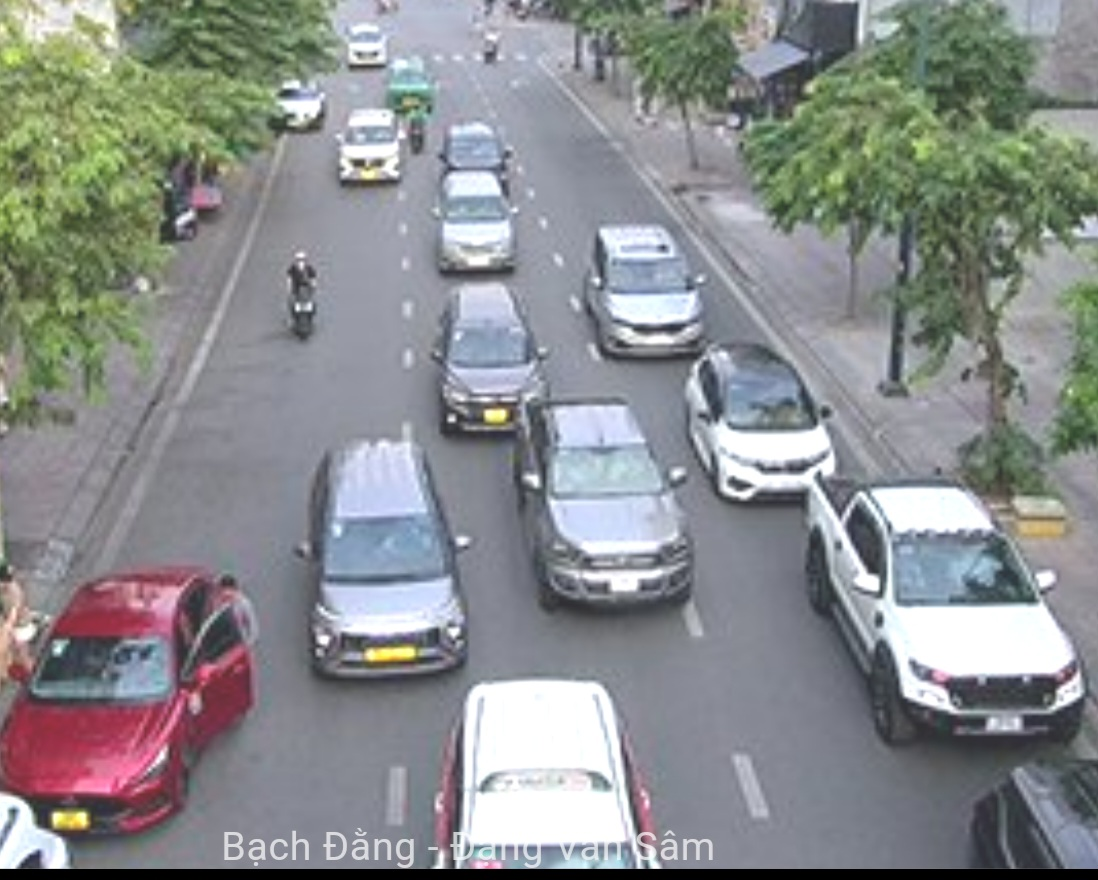car: (808, 469, 1092, 748), (14, 561, 237, 834), (307, 438, 474, 682), (438, 686, 656, 865), (513, 403, 692, 618), (690, 350, 837, 502), (434, 281, 551, 444), (584, 223, 708, 357), (434, 169, 516, 273), (339, 108, 402, 184), (389, 61, 439, 114)
